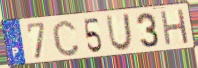3: (135, 11, 161, 49)
5: (82, 16, 104, 54)
7: (25, 21, 47, 61)
C: (50, 18, 82, 58)
H: (159, 7, 191, 48)
U: (105, 12, 134, 52)
